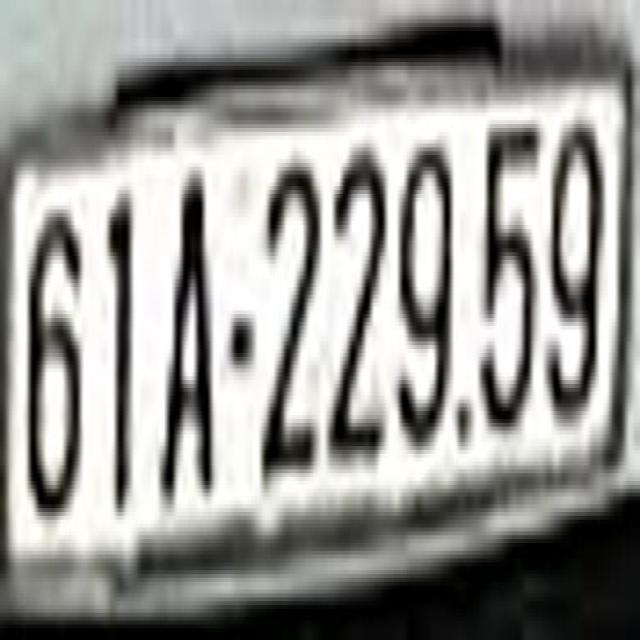1: (102, 175, 133, 540)
2: (259, 151, 320, 485), (326, 148, 386, 462)
5: (482, 105, 536, 442)
6: (26, 194, 80, 532)
9: (544, 108, 602, 426), (397, 124, 451, 462)
A: (160, 163, 214, 512)
